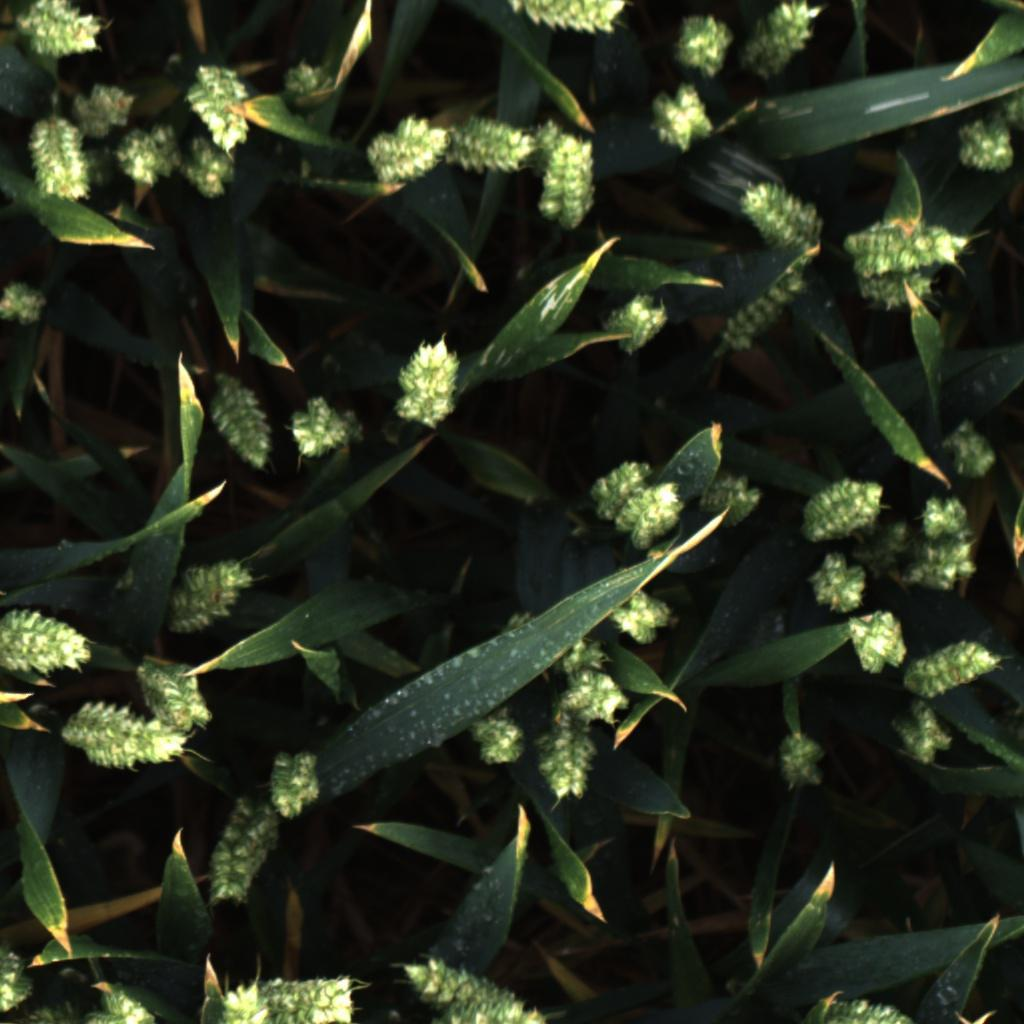0-0: (52, 700, 188, 774), (201, 784, 278, 906), (713, 273, 814, 356), (498, 608, 614, 675), (395, 330, 469, 435), (844, 217, 973, 276), (18, 109, 95, 206), (744, 0, 832, 84), (396, 953, 518, 1011), (165, 555, 257, 630), (185, 59, 261, 147), (647, 79, 730, 159), (802, 471, 889, 547), (738, 176, 828, 249), (362, 115, 445, 194), (536, 135, 606, 228), (138, 652, 220, 731), (210, 372, 274, 472), (0, 607, 89, 677), (533, 718, 604, 804), (11, 0, 106, 60), (905, 637, 999, 697), (445, 117, 539, 176), (286, 397, 365, 461), (618, 480, 686, 554), (275, 966, 361, 1024), (503, 0, 634, 38), (953, 110, 1022, 182), (668, 3, 736, 76), (605, 290, 672, 363), (845, 608, 912, 681), (797, 989, 931, 1024), (265, 745, 325, 823), (275, 48, 347, 113), (905, 531, 979, 592), (79, 969, 161, 1024), (890, 697, 956, 764), (74, 77, 144, 138), (464, 705, 531, 768), (554, 673, 630, 728), (117, 125, 179, 192), (806, 552, 873, 614), (182, 137, 242, 206), (609, 586, 675, 647), (859, 263, 939, 311), (588, 455, 649, 517), (859, 517, 912, 588), (771, 731, 833, 790), (702, 474, 769, 527), (204, 977, 278, 1024), (941, 420, 997, 481), (524, 114, 572, 182), (0, 270, 49, 334), (418, 1001, 551, 1024), (0, 940, 39, 1016), (914, 494, 979, 537)
